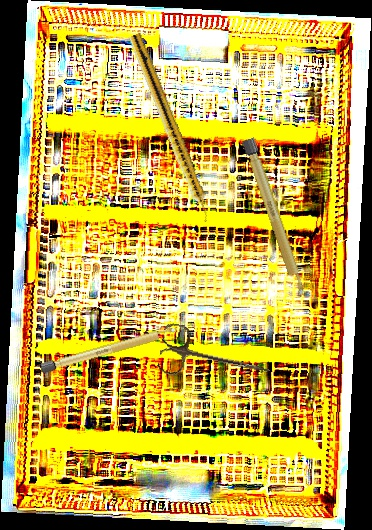Handpiece: (124, 32, 216, 225)
Iris Scissors: (156, 321, 275, 394)
Scalpel Handle: (241, 137, 308, 298), (38, 324, 181, 375)
